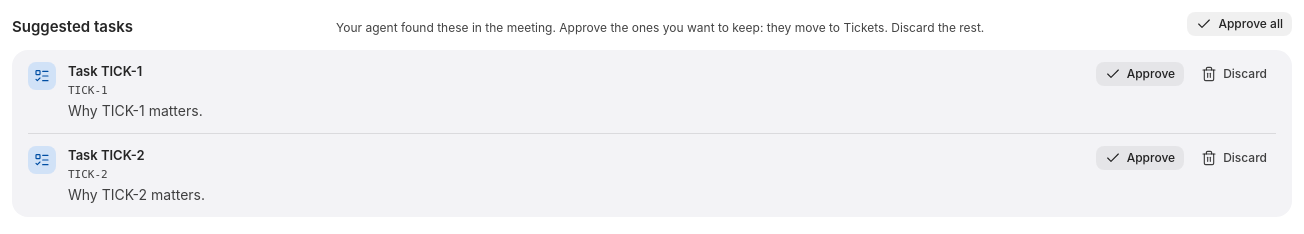
Test: MeetingTasks › Approve keeps the task, marked Approved with a link to Tickets and no buttons
This screenshot has width=1304, height=234.
Click the button with aria-label "Approve TICK-1": (1140, 74) [1096, 62, 1184, 86]
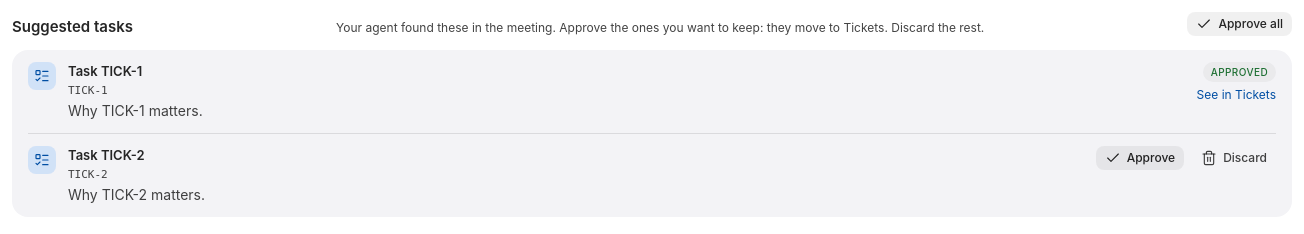
Check: the button with aria-label "Approve TICK-2" is shown, box [1096, 146, 1184, 170]
Check: the text "Approved" is shown, box [1203, 62, 1276, 82]
